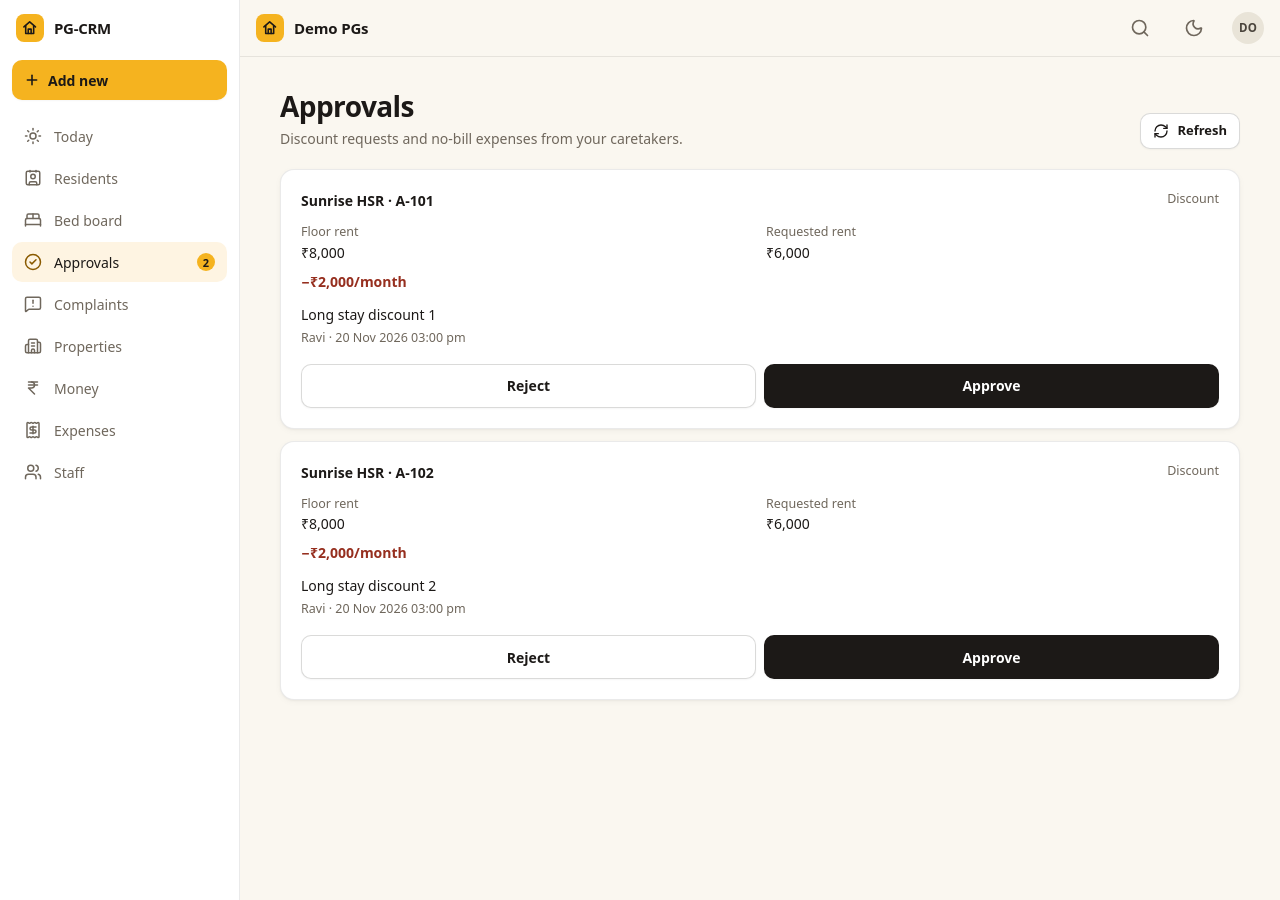
Owner approvals inbox › [FE-22/AC2] approve removes the card and posts the decision
Expected: the number of list items with test id "discount-card" is 2, [280, 169, 1240, 428]; [280, 440, 1240, 700]
What coordinates should you click on to do the following:
click the 1st button "Approve"
I would click on:
 (992, 386)
Its box is [764, 364, 1219, 408].
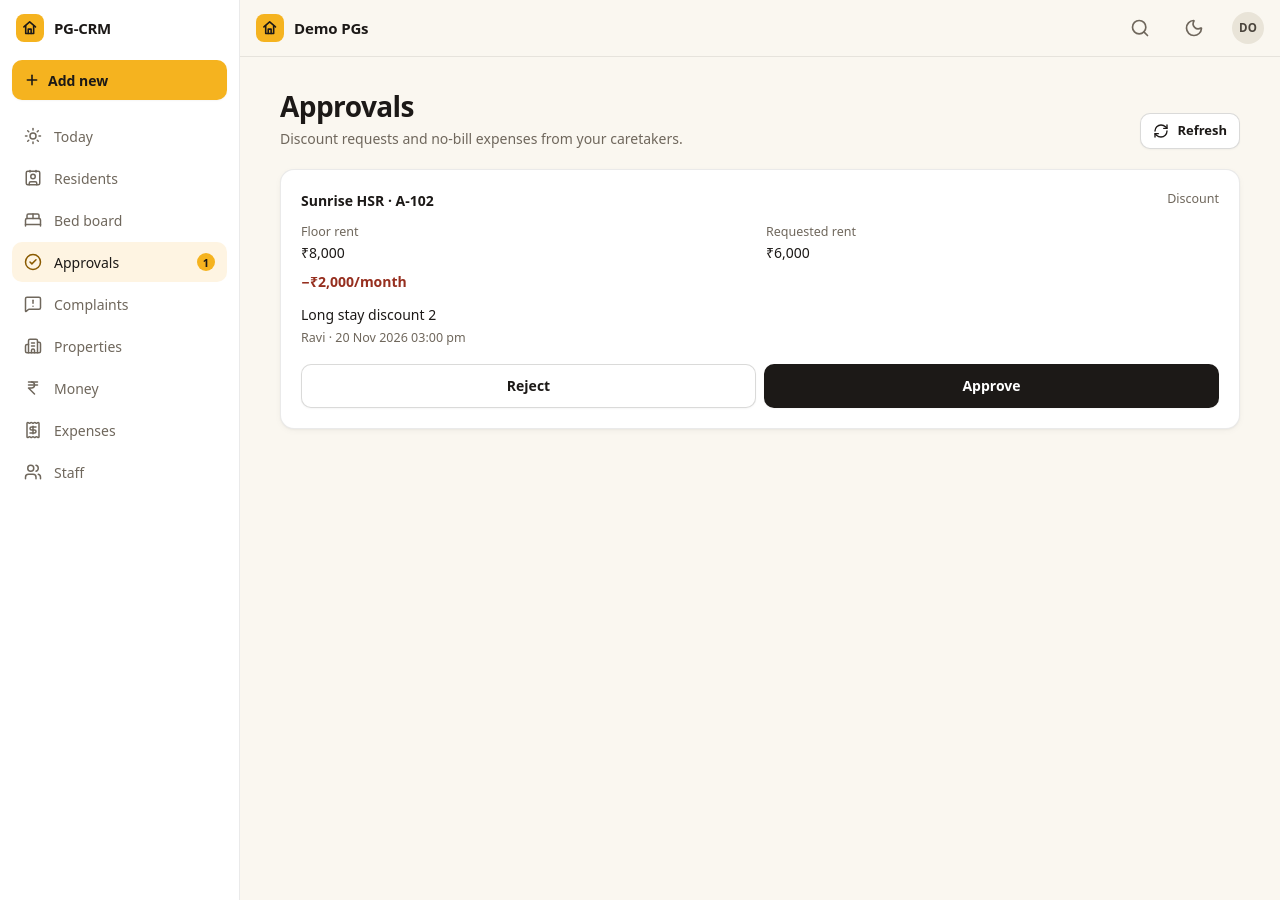
Expected: the number of list items with test id "discount-card" is 1, [280, 169, 1240, 428]
Expected: the text "Long stay discount 1" is gone
